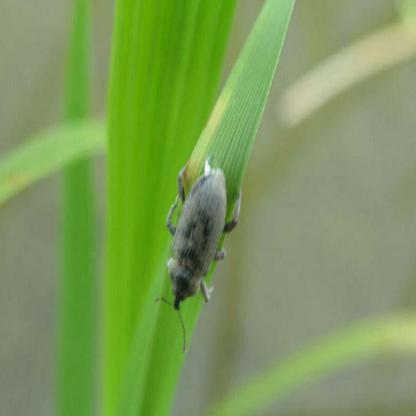rice-bug: (161, 160, 245, 295)
